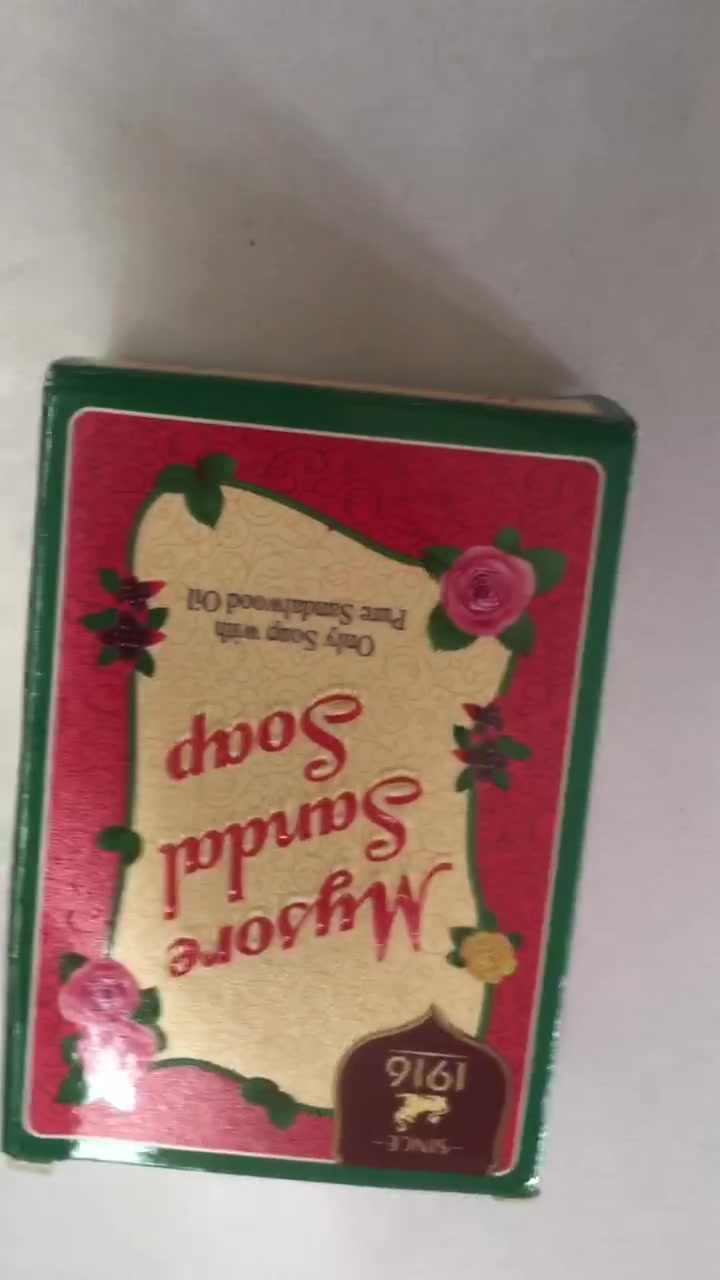mysore sandal soap: (14, 355, 638, 1207)
